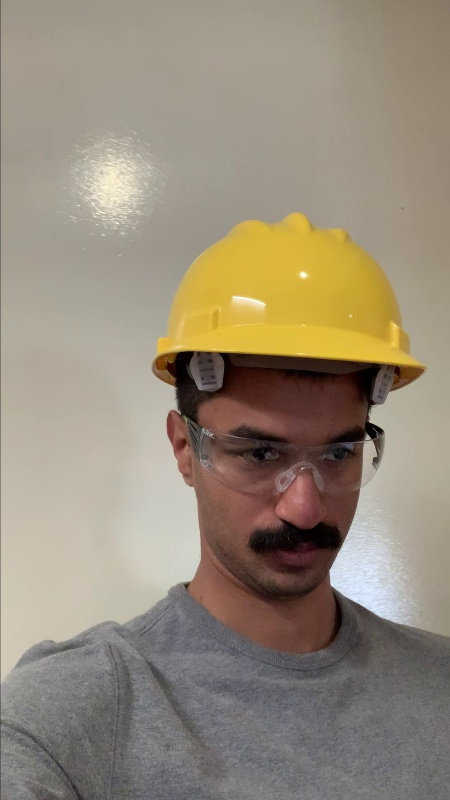glasses: (202, 427, 390, 503)
helmet: (144, 208, 432, 386)
